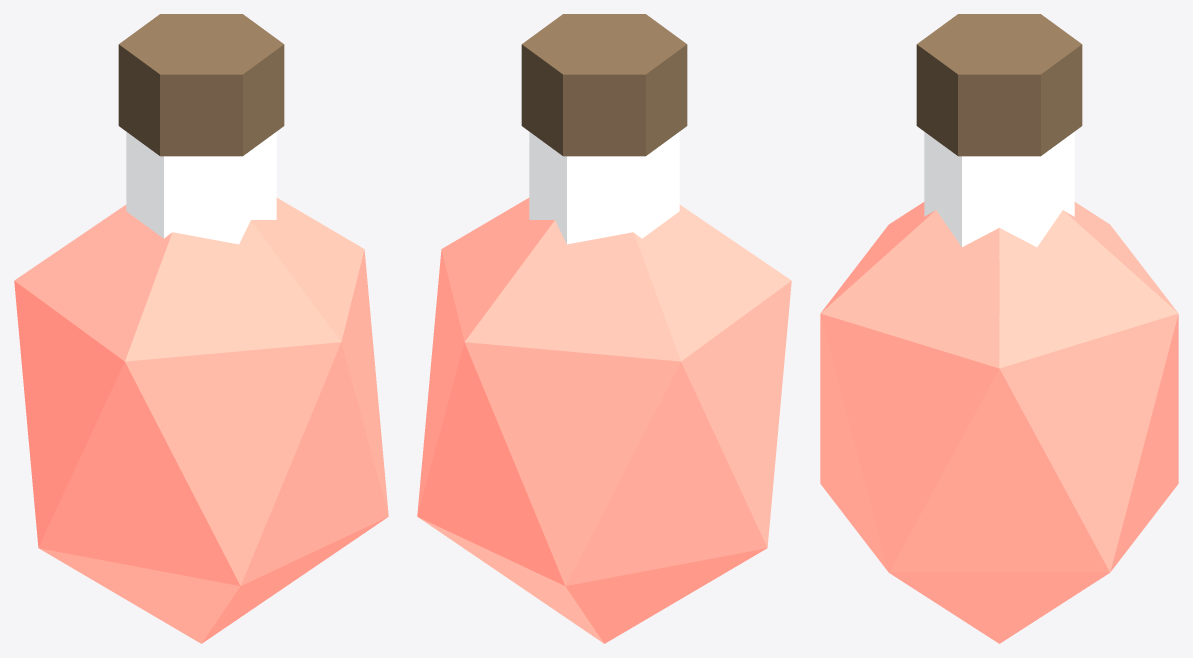
Rendered from potion_health.glb.
3 renders of one model, left to right at view 1: azimuth 30°, elevation 25°; view 2: azimuth 150°, elevation 25°; view 3: azimuth 270°, elevation 25°, orthographic.
Visible parts, largest first — view 1: PotionHealth; view 2: PotionHealth; view 3: PotionHealth.
Boxes of the visible parts, <box> form: PotionHealth: <box>14,14,388,643</box>; PotionHealth: <box>417,14,791,643</box>; PotionHealth: <box>820,14,1178,643</box>.
Size of the model in its own units: 0.5009 by 0.88 by 0.4764.
